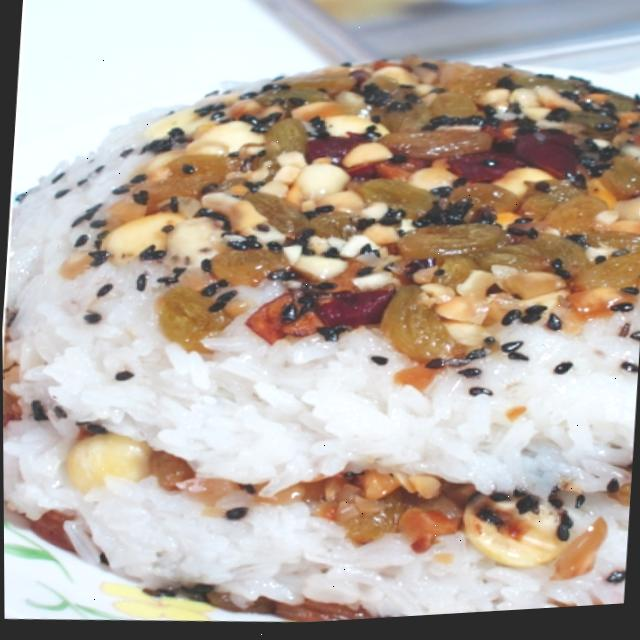米饭主食: (0, 23, 640, 640)
